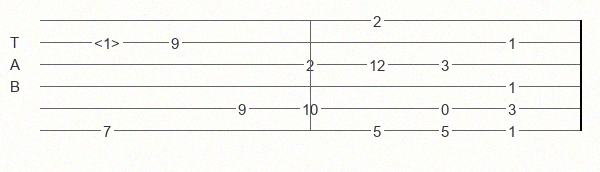0: (441, 101, 453, 116)
1: (508, 123, 520, 138), (508, 35, 520, 50), (508, 79, 520, 94)
10: (302, 101, 322, 116)
12: (369, 57, 389, 72)
2: (306, 57, 318, 72), (373, 13, 385, 28)
3: (441, 57, 453, 72), (508, 101, 520, 116)
5: (373, 123, 385, 138), (441, 123, 453, 138)
7: (103, 123, 115, 138)
9: (171, 35, 183, 50), (238, 101, 250, 116)
harmonic: (94, 35, 124, 50)
